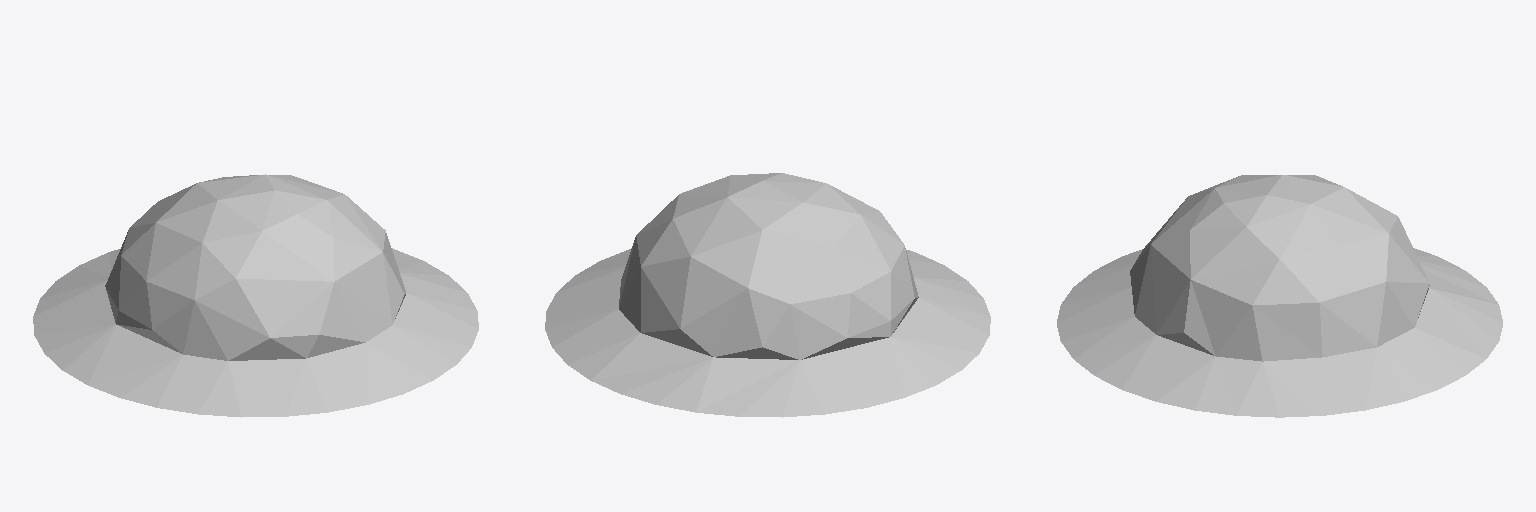
File: Single_Surface_Bubble.obj
3 views of the same model, side by side, from view 1: azimuth 30°, elevation 25°; view 2: azimuth 150°, elevation 25°; view 3: azimuth 270°, elevation 25° (orthographic).
Visible parts, largest first — view 1: Sphere.114; view 2: Sphere.114; view 3: Sphere.114.
Boxes of the visible parts, box(x1,y1,x2,y2) form: Sphere.114: box(33, 174, 478, 417); Sphere.114: box(545, 173, 990, 417); Sphere.114: box(1057, 175, 1502, 417).
Bounding box in the file's own units: 2.94 × 0.9761 × 2.94.